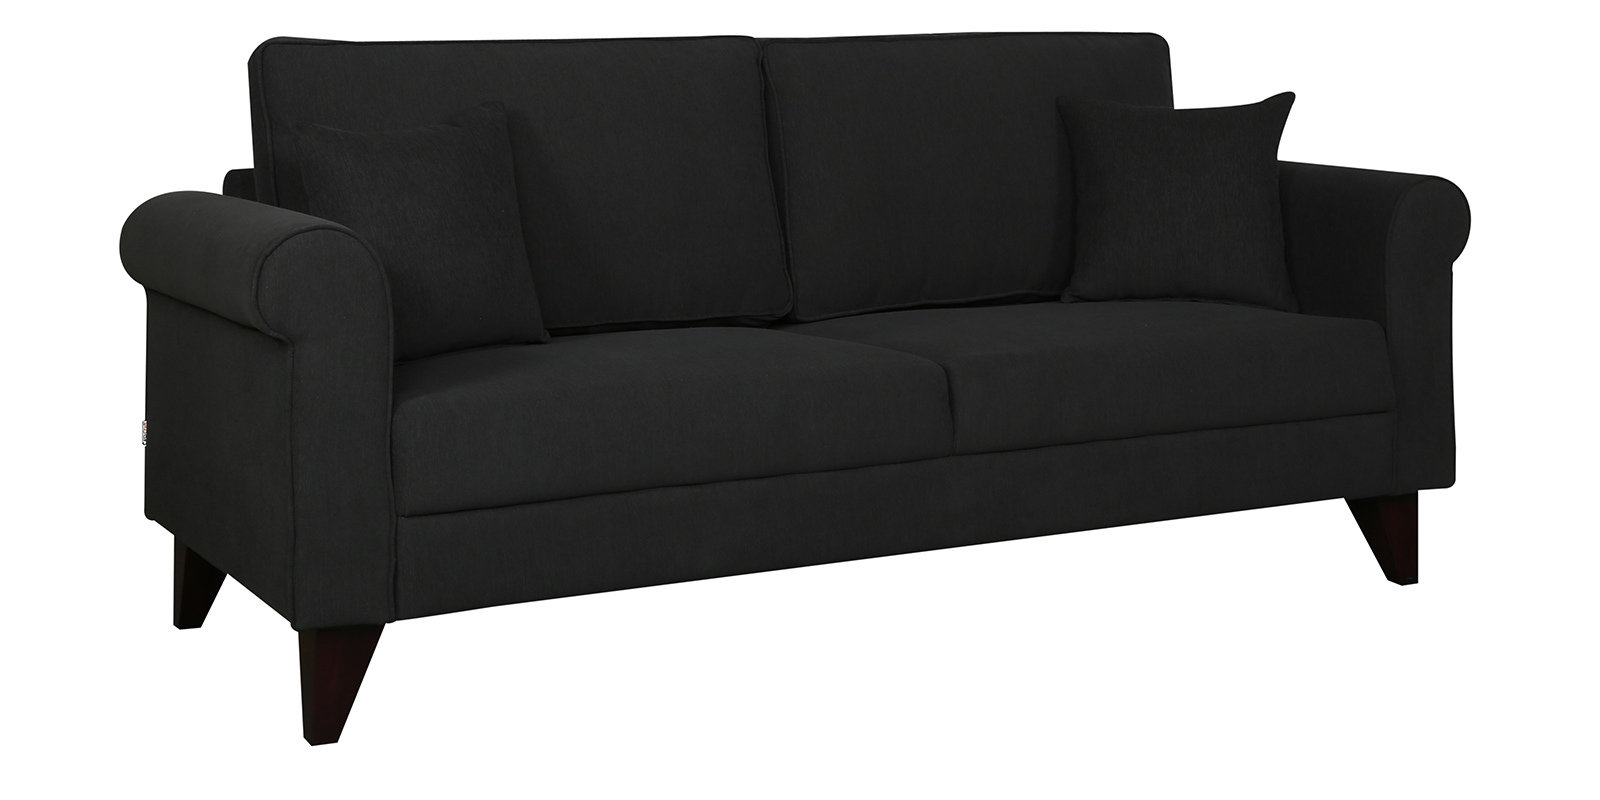Fuego Three Seater Sofa in Charcoal Grey Colour by CasaCraft: (113, 18, 1507, 761)
